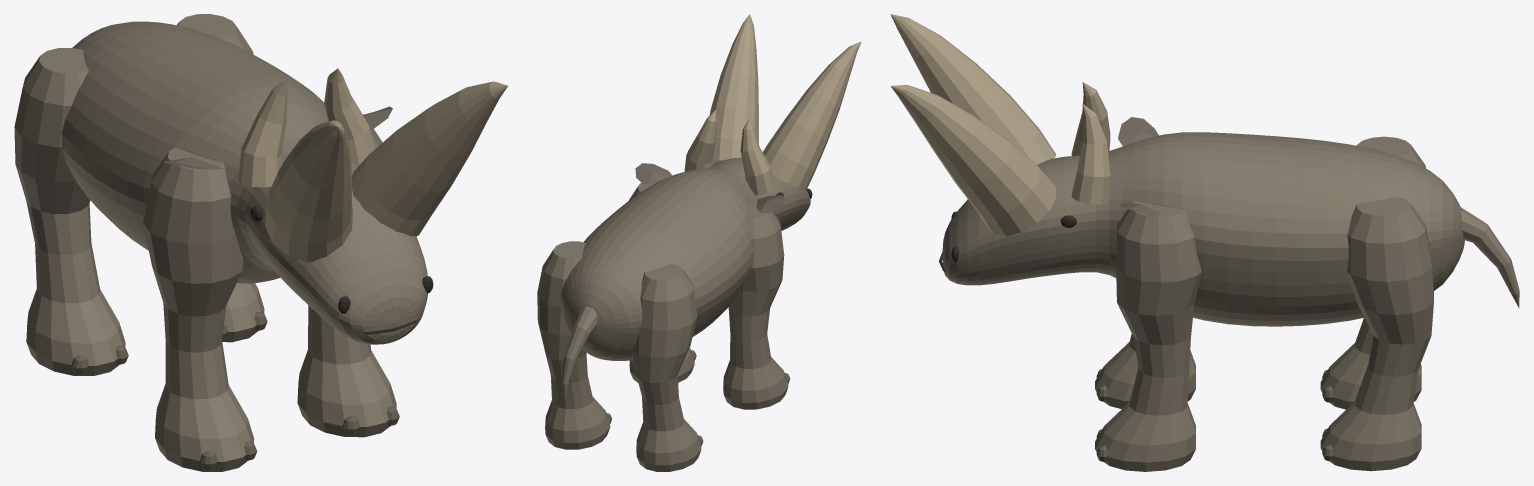
3 views of the same model, side by side, from view 1: azimuth 30°, elevation 25°; view 2: azimuth 150°, elevation 25°; view 3: azimuth 270°, elevation 25° (orthographic). The views are drawn at different scales.
Visible parts, largest first — view 1: continuous body neck and broad head, left forelimb and broad foot, left hindlimb and broad foot, right enormous nasal horn, left enormous nasal horn, right forelimb and broad foot, left small supraorbital horn, right hindlimb and broad foot, right small supraorbital horn; view 2: continuous body neck and broad head, left hindlimb and broad foot, left forelimb and broad foot, right hindlimb and broad foot, left enormous nasal horn, right enormous nasal horn, left small supraorbital horn, short tapering tail, right small supraorbital horn, right forelimb and broad foot, right lateral ear, left lateral ear; view 3: continuous body neck and broad head, right hindlimb and broad foot, right forelimb and broad foot, right enormous nasal horn, left enormous nasal horn, left hindlimb and broad foot, right small supraorbital horn, left forelimb and broad foot, short tapering tail, left small supraorbital horn, left lateral ear.
Part boxes in pixels (x1,y1,x2,y2): continuous body neck and broad head: [61, 21, 427, 344]; left forelimb and broad foot: [143, 147, 254, 471]; left hindlimb and broad foot: [14, 48, 125, 375]; right enormous nasal horn: [352, 81, 507, 236]; left enormous nasal horn: [265, 120, 352, 262]; right forelimb and broad foot: [297, 129, 396, 437]; left small supraorbital horn: [238, 81, 287, 187]; right hindlimb and broad foot: [177, 14, 264, 342]; right small supraorbital horn: [324, 68, 374, 164]; continuous body neck and broad head: [561, 157, 810, 360]; left hindlimb and broad foot: [632, 264, 701, 471]; left forelimb and broad foot: [723, 201, 788, 409]; right hindlimb and broad foot: [537, 241, 610, 449]; left enormous nasal horn: [762, 41, 861, 190]; right enormous nasal horn: [709, 14, 758, 164]; left small supraorbital horn: [740, 118, 775, 195]; short tapering tail: [562, 306, 597, 396]; right small supraorbital horn: [684, 110, 716, 171]; right forelimb and broad foot: [628, 182, 694, 382]; right lateral ear: [635, 163, 671, 184]; left lateral ear: [756, 195, 785, 213]; continuous body neck and broad head: [942, 132, 1464, 326]; right hindlimb and broad foot: [1320, 196, 1433, 471]; right forelimb and broad foot: [1095, 201, 1201, 471]; right enormous nasal horn: [890, 85, 1055, 236]; left enormous nasal horn: [890, 14, 1055, 164]; left hindlimb and broad foot: [1320, 136, 1425, 409]; right small supraorbital horn: [1071, 104, 1110, 204]; left forelimb and broad foot: [1095, 333, 1195, 409]; short tapering tail: [1460, 207, 1519, 307]; left small supraorbital horn: [1071, 82, 1110, 155]; left lateral ear: [1118, 117, 1158, 146].
Bounding box in the file's own units: 1.26 × 2.24 × 3.4.
